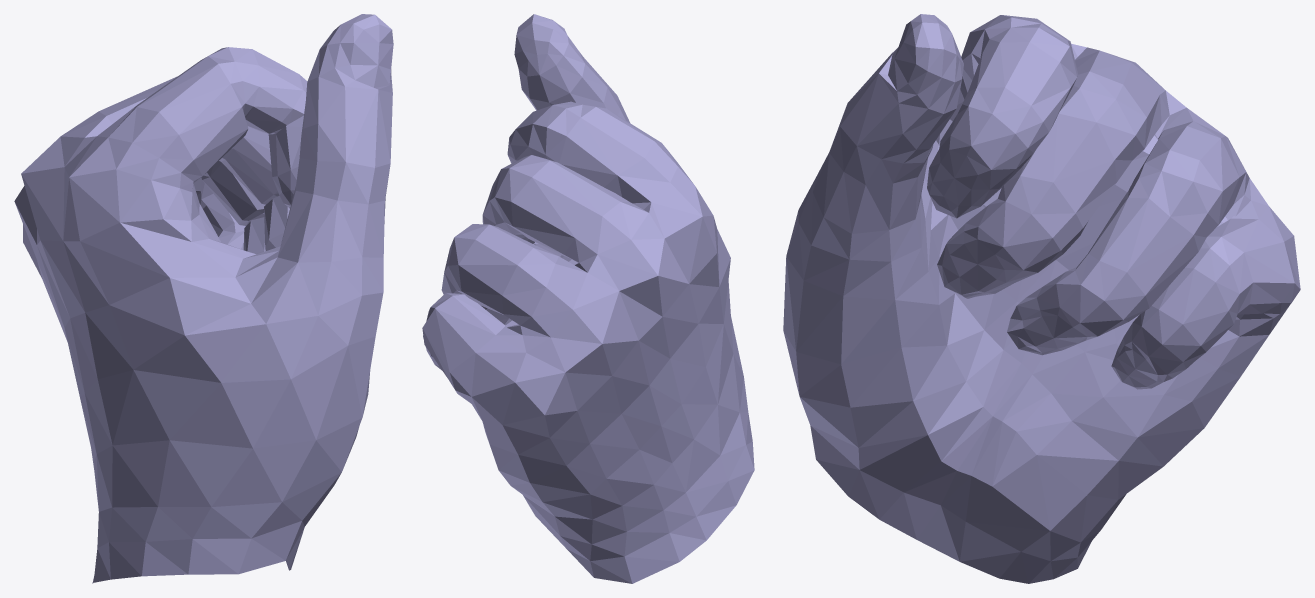
The model's file is frame_0027_source_000027_hand.glb.
3 renders of one model, left to right at view 1: azimuth 30°, elevation 25°; view 2: azimuth 150°, elevation 25°; view 3: azimuth 270°, elevation 25°, orthographic. The views are drawn at different scales.
Visible parts, largest first — view 1: world; view 2: world; view 3: world.
Boxes of the visible parts, left/top/right/bottom form: world: left=14, top=14, right=393, bottom=583; world: left=422, top=14, right=754, bottom=583; world: left=783, top=14, right=1300, bottom=583.
Size of the model in its own units: 0.0615 by 0.1243 by 0.0938.
